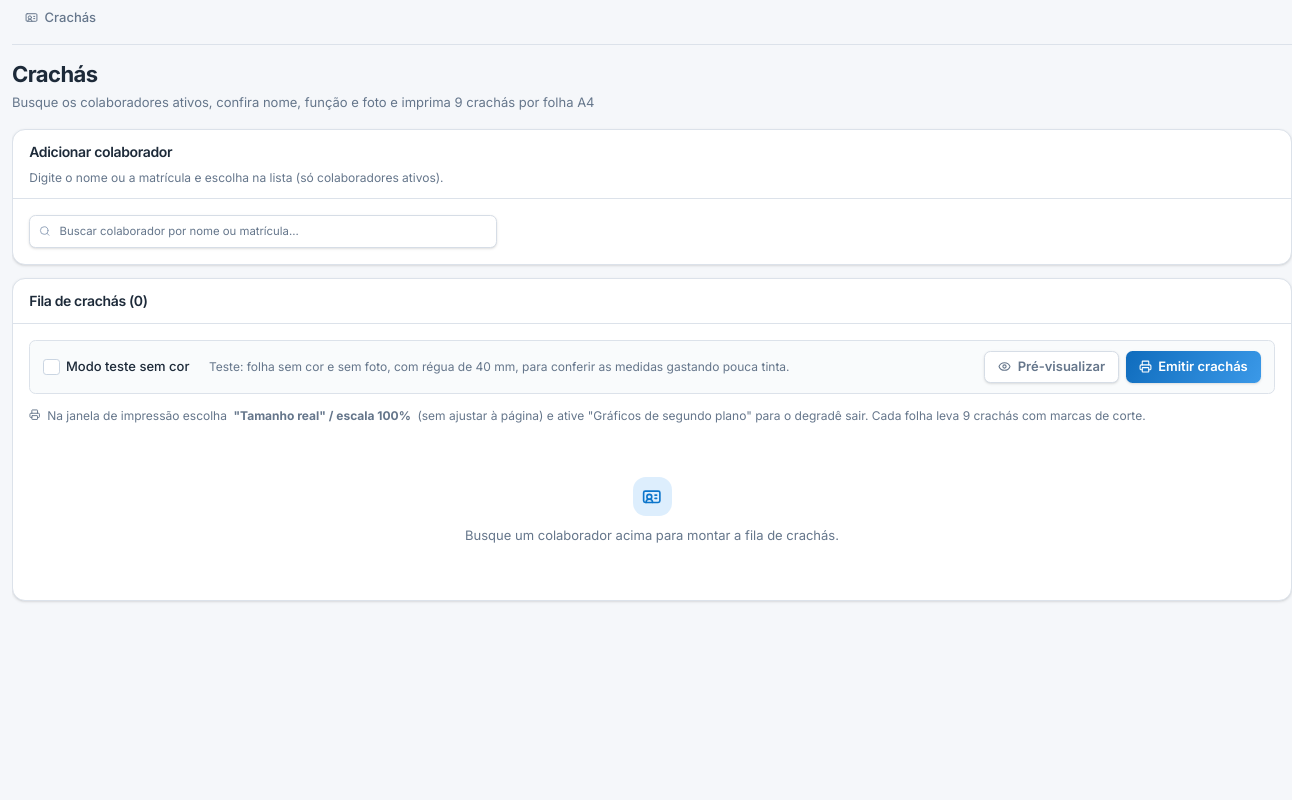
Scenario: CeuCrachasPage — smoke test › mostra só a aba Crachás para o dp3, a orientação de impressão e avisa seleção vazia
The image size is (1292, 800).
Expected: the heading "Adicionar colaborador" is shown, [29,143,172,160]
Expected: the link "Crachás" is shown, [25,9,96,25]
Click the button "Emitir crachás". click: (1193, 367)
box: [1126,351,1261,383]
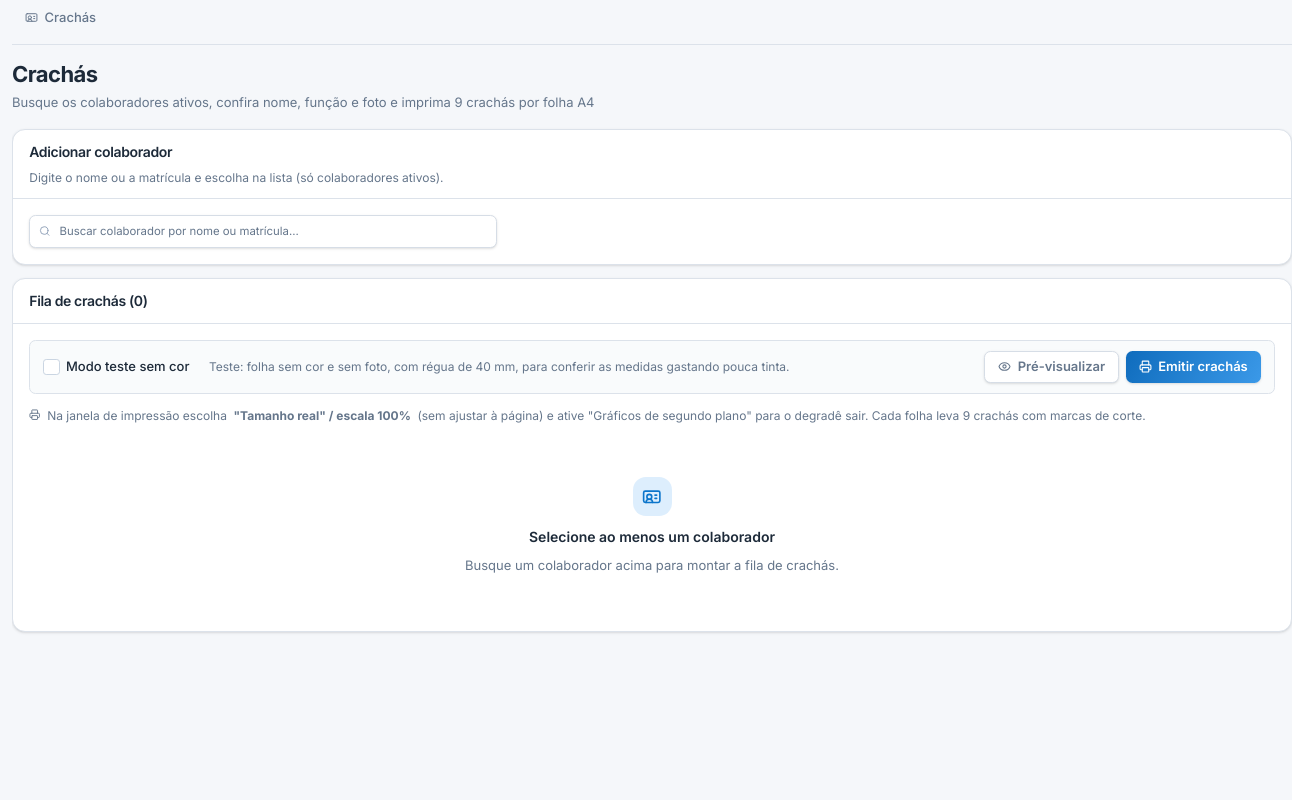
Result: the text "Selecione ao menos um colaborador" is shown at [529,526,775,547]
